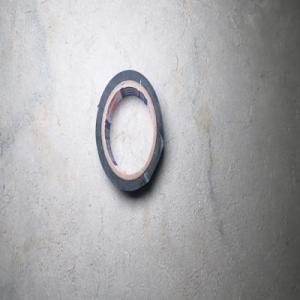Tape: (95, 69, 164, 197)
